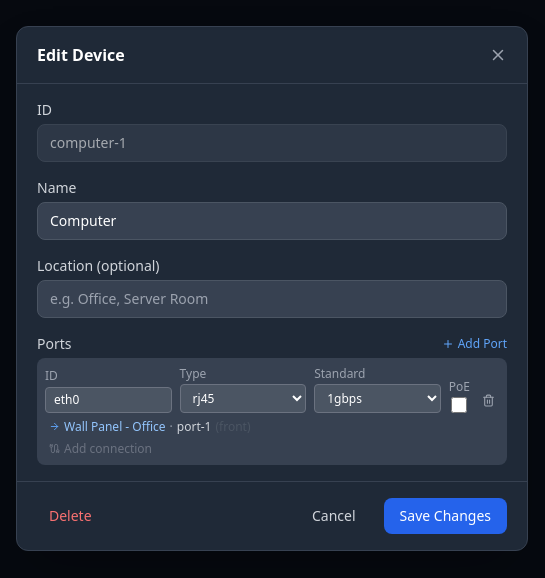
Scenario: EntityForm — delete › cancels the confirmation when Cancel is clicked in confirm state
The image size is (545, 578).
Click the button "Delete" at (70, 516), box [37,498,104,534]
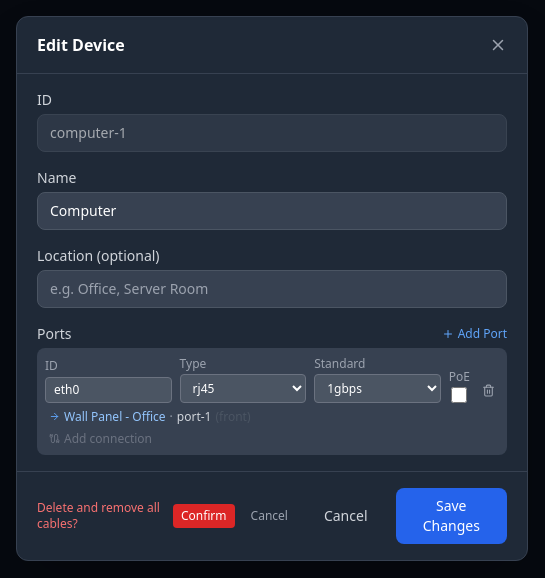
Click the cancel inside the confirm prompt (confirm's Cancel renders before the main Cancel)
Click the button "Cancel" in the row of "Delete and remove all cables?" at (269, 516), box [243,504,296,528]
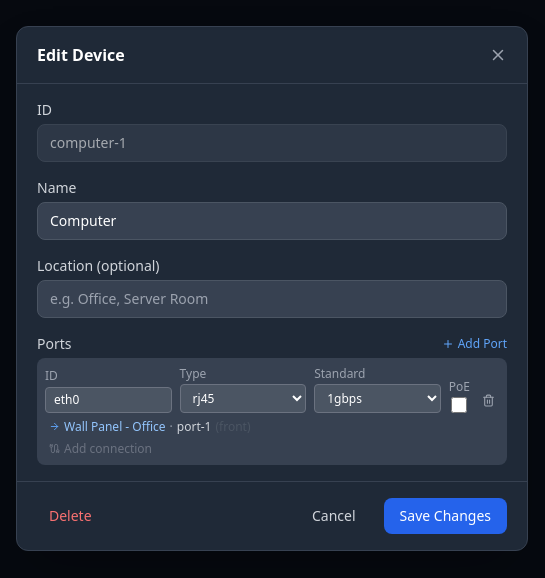
Check: the text "Delete and remove all cables" is gone
